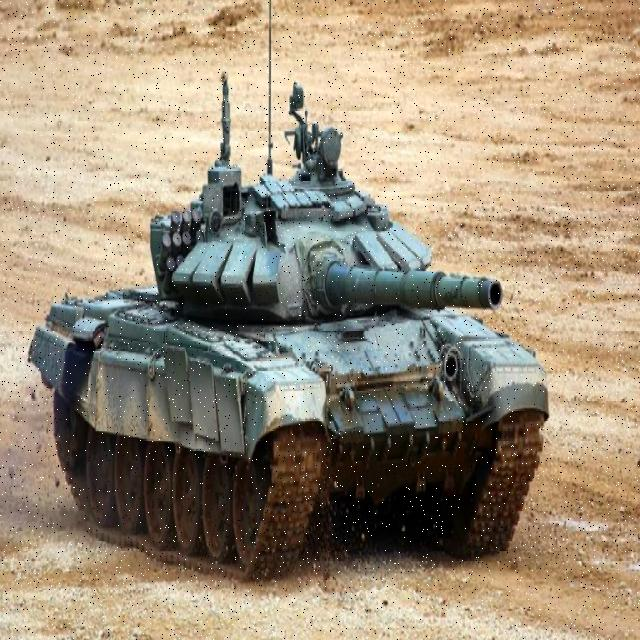TANK: (29, 96, 552, 582)
